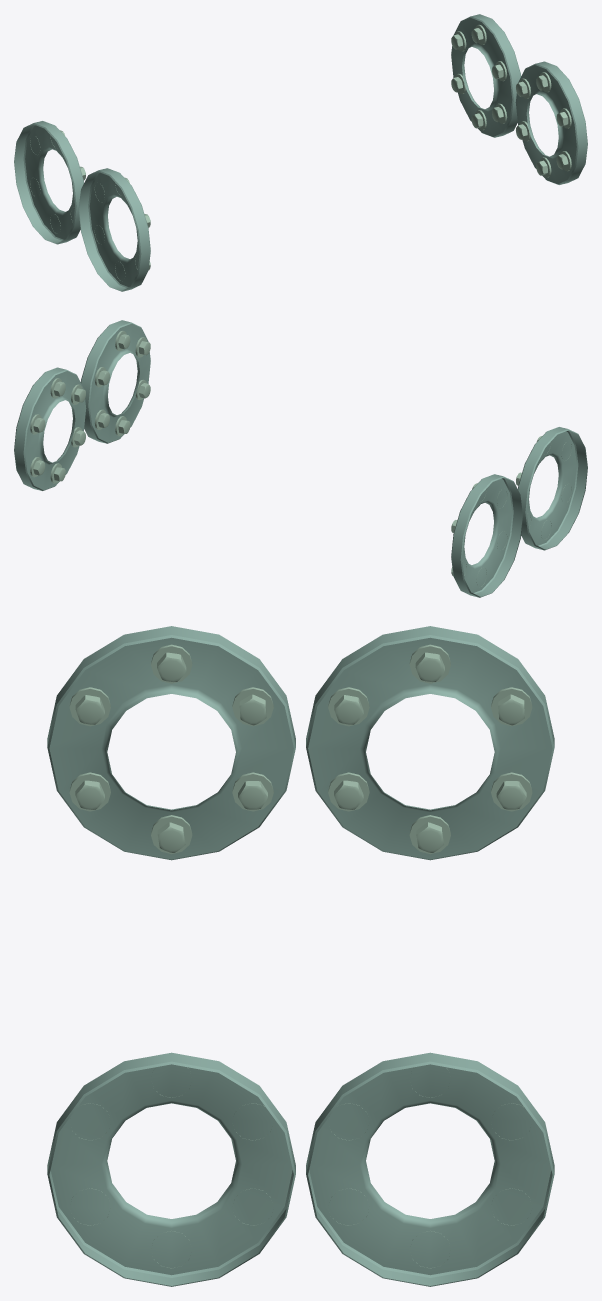
Rendered from PipeComplexLarge_A3_08_End.fbx.
3 views of the same model, one above another, from view 1: azimuth 30°, elevation 25°; view 2: azimuth 150°, elevation 25°; view 3: azimuth 270°, elevation 25° (orthographic). The views are drawn at different scales.
Visible parts, largest first — view 1: PipeComplexLarge_A3_08_End.001; view 2: PipeComplexLarge_A3_08_End.001; view 3: PipeComplexLarge_A3_08_End.001.
Part boxes in pixels (x1=…): PipeComplexLarge_A3_08_End.001: x1=14, y1=14, x2=587, y2=291; PipeComplexLarge_A3_08_End.001: x1=14, y1=320, x2=587, y2=597; PipeComplexLarge_A3_08_End.001: x1=47, y1=626, x2=554, y2=1286.
Size of the model in its own units: 1.6 by 0.3846 by 0.7846.
